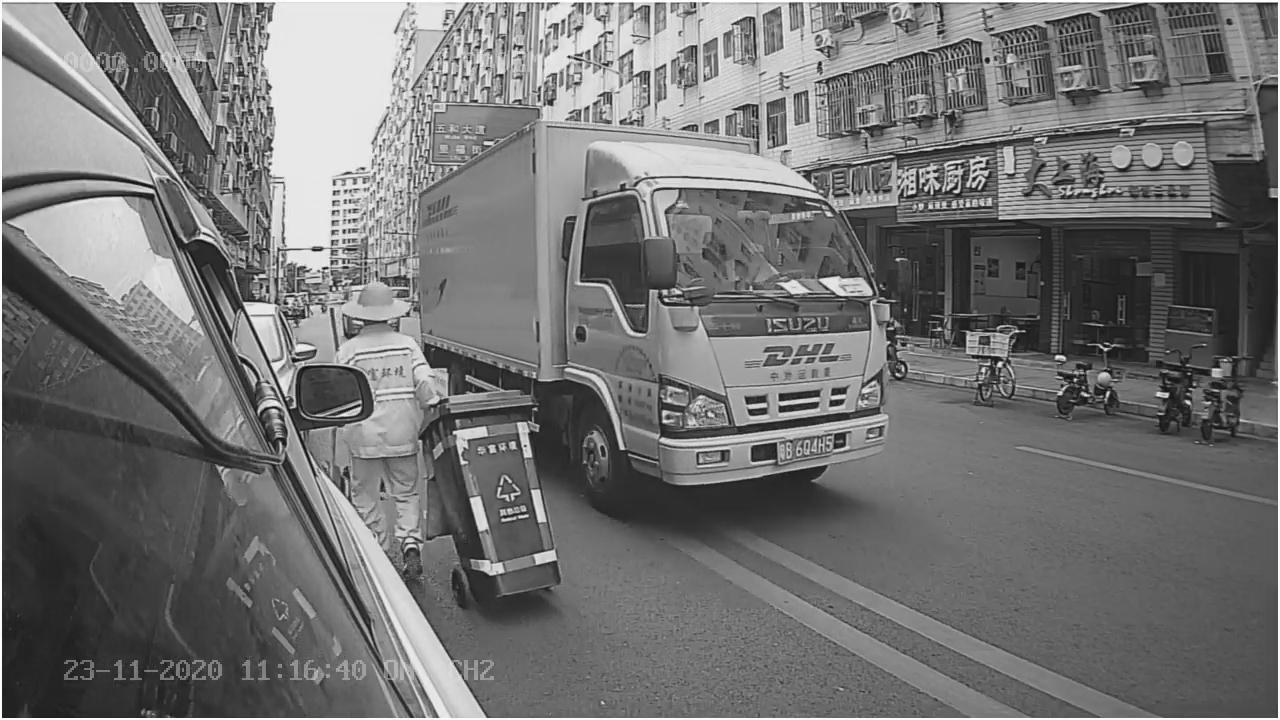person: (336, 280, 433, 367)
